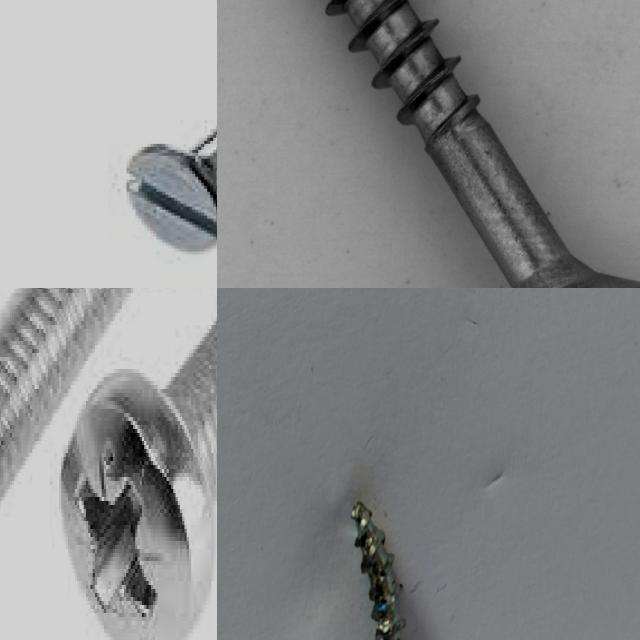Screw: (245, 0, 640, 288), (57, 320, 217, 640), (0, 288, 139, 513), (127, 129, 217, 255), (351, 501, 406, 640)
